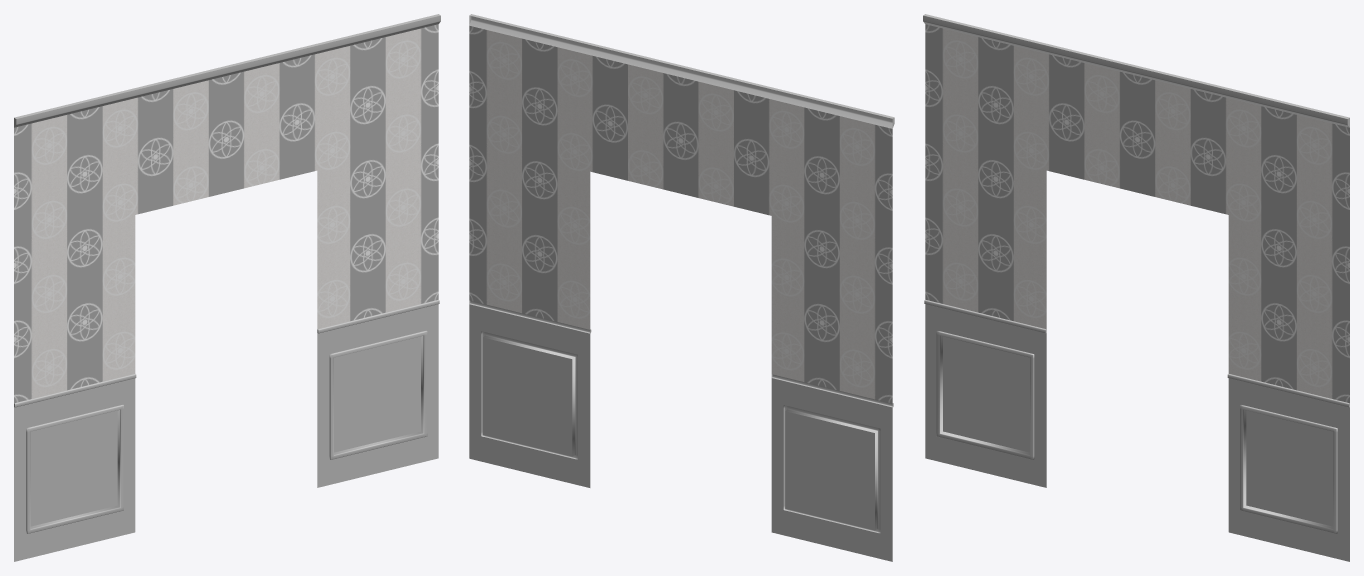
File: WallNiche03_350cmDoor.FBX
The picture shows the model from 3 angles, left to right: view 1: azimuth 30°, elevation 25°; view 2: azimuth 150°, elevation 25°; view 3: azimuth 330°, elevation 25°; orthographic projection.
Visible parts, largest first — view 1: WallNiche03_350cmDoor; view 2: WallNiche03_350cmDoor; view 3: WallNiche03_350cmDoor.
Part boxes in pixels (x1,y1,x2,y2): WallNiche03_350cmDoor: [14, 14, 440, 561]; WallNiche03_350cmDoor: [469, 14, 894, 561]; WallNiche03_350cmDoor: [923, 14, 1349, 561].
Size of the model in its own units: 3500 by 3500 by 60.
